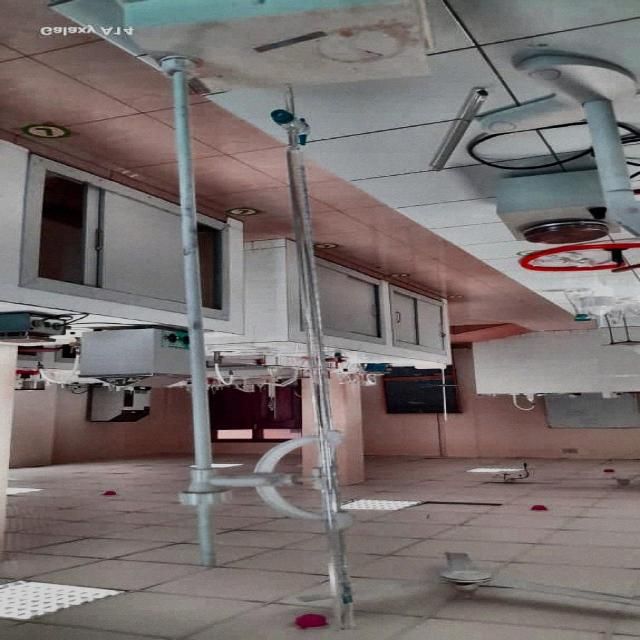Biurette: (243, 80, 369, 616)
